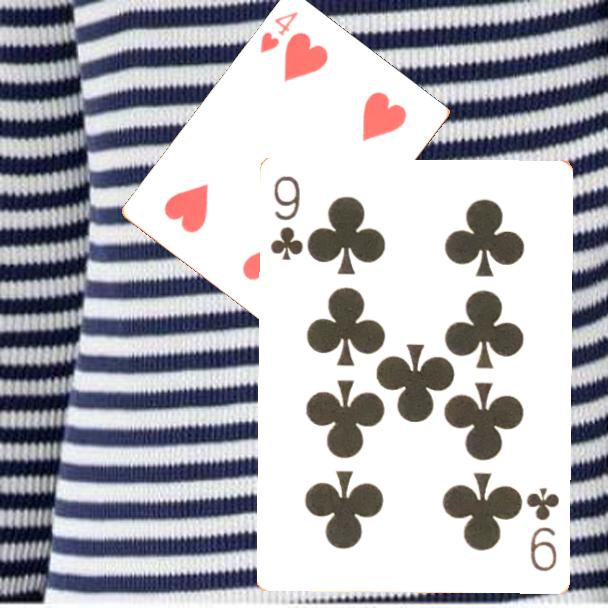c09: (267, 173, 307, 264), (524, 484, 562, 575)
h04: (256, 8, 302, 56)
